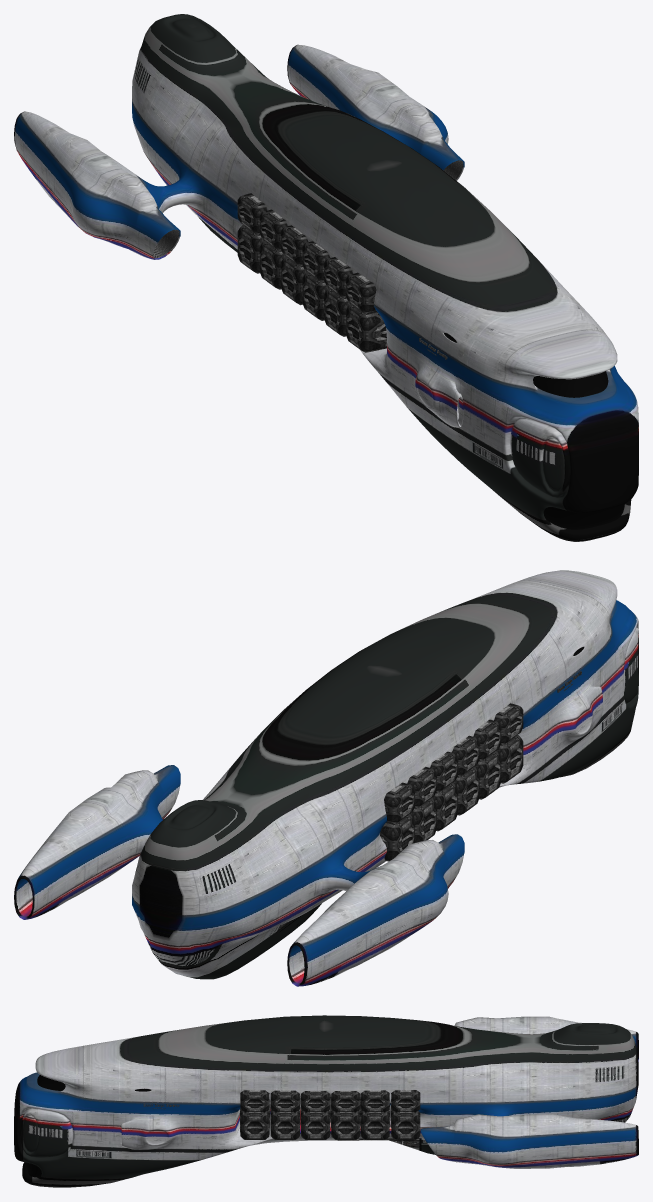
The model's file is Exxon Cargo Starship.obj.
3 renders of one model, top to bottom at view 1: azimuth 30°, elevation 25°; view 2: azimuth 150°, elevation 25°; view 3: azimuth 270°, elevation 25°, orthographic. The views are drawn at different scales.
Visible parts, largest first — view 1: body2, cargo, windows; view 2: body2, cargo; view 3: body2, cargo, windows.
Part boxes in pixels (x1=…): body2: x1=14, y1=14, x2=638, y2=541; cargo: x1=237, y1=193, x2=386, y2=352; windows: x1=444, y1=333, x2=624, y2=529; body2: x1=14, y1=570, x2=638, y2=986; cargo: x1=380, y1=703, x2=523, y2=861; body2: x1=14, y1=1015, x2=638, y2=1187; cargo: x1=239, y1=1090, x2=420, y2=1139; windows: x1=24, y1=1075, x2=151, y2=1177.
Size of the model in its own units: 339 by 197 by 726.
